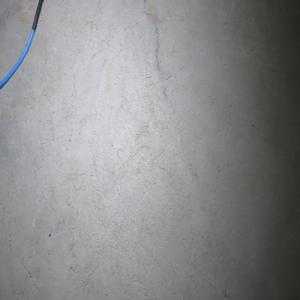Wire: (0, 0, 43, 89)
